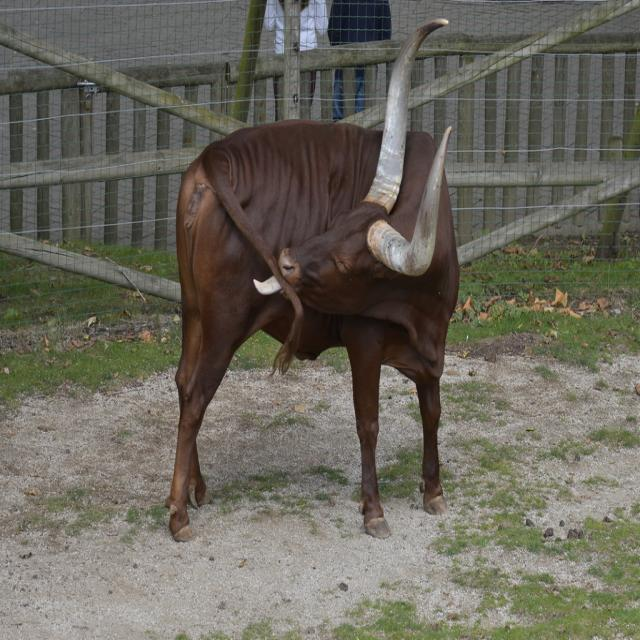Cattle: (166, 79, 481, 528)
